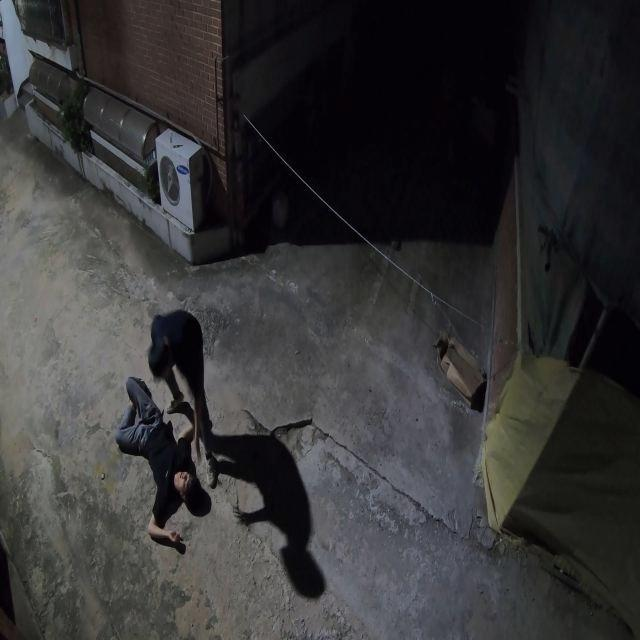fight: (110, 306, 218, 518)
